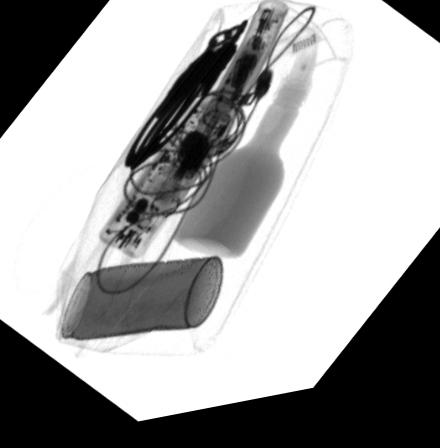Baton: (146, 6, 289, 225)
HandCuffs: (122, 26, 250, 177)
